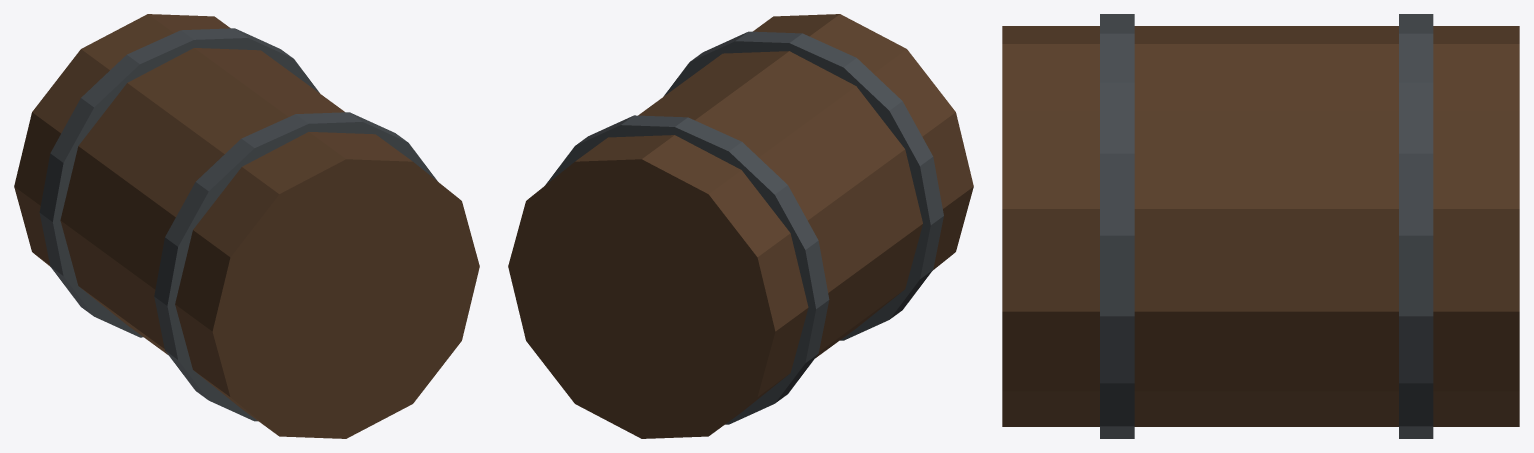
File: SM_Barrel.obj
3 renders of one model, left to right at view 1: azimuth 30°, elevation 25°; view 2: azimuth 150°, elevation 25°; view 3: azimuth 270°, elevation 25°, orthographic. The views are drawn at different scales.
Size of the model in its own units: 0.74 by 0.74 by 0.9.
